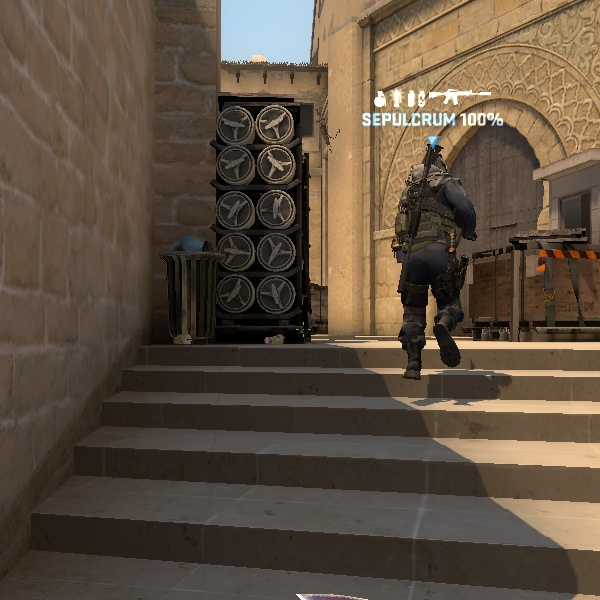ct_body: (373, 147, 517, 380)
ct_head: (418, 143, 465, 179)
